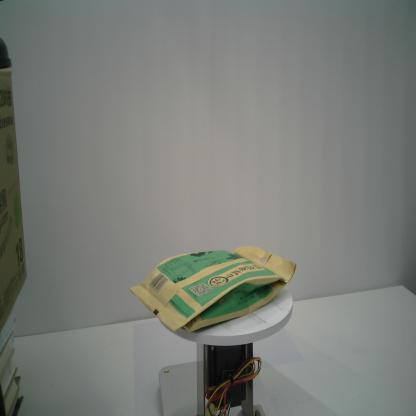Dried Food: (130, 244, 297, 336)
